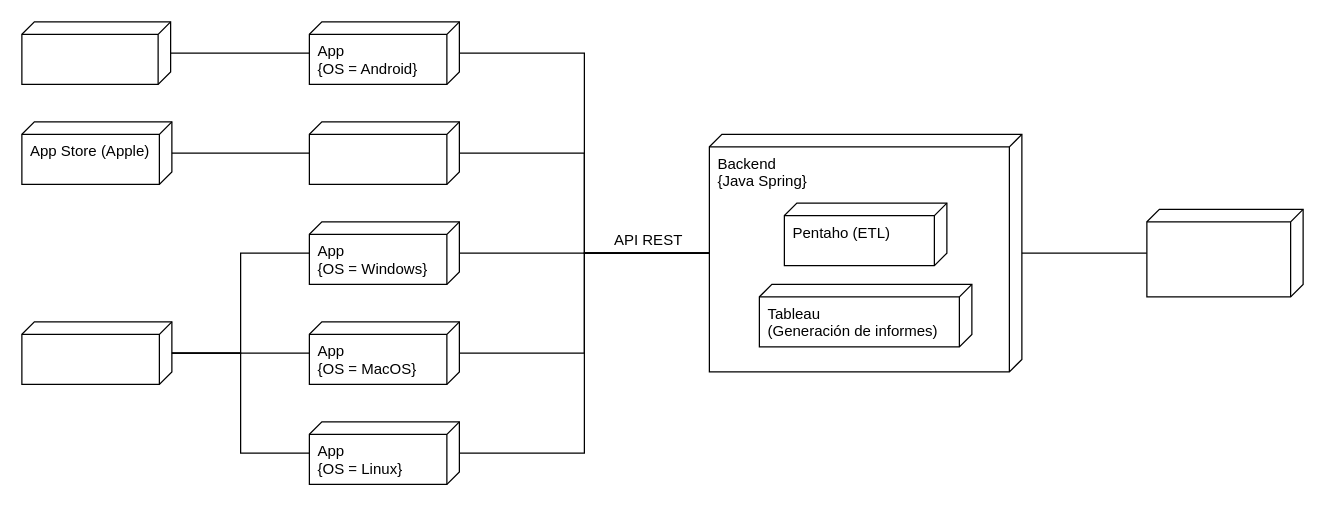
The diagram is 1325 pixels wide and 506 high, and some of its shapes have lost their labels. Here are the shapes that lost their labels. From the top down, the box of each, then its label:
(21, 21, 171, 84): Play Store (Google)
(308, 121, 459, 184): App {OS = iOS}
(1146, 208, 1303, 297): Sistema de bases de datos {PostgreSQL}
(21, 321, 172, 384): Sitio web de la empresa
